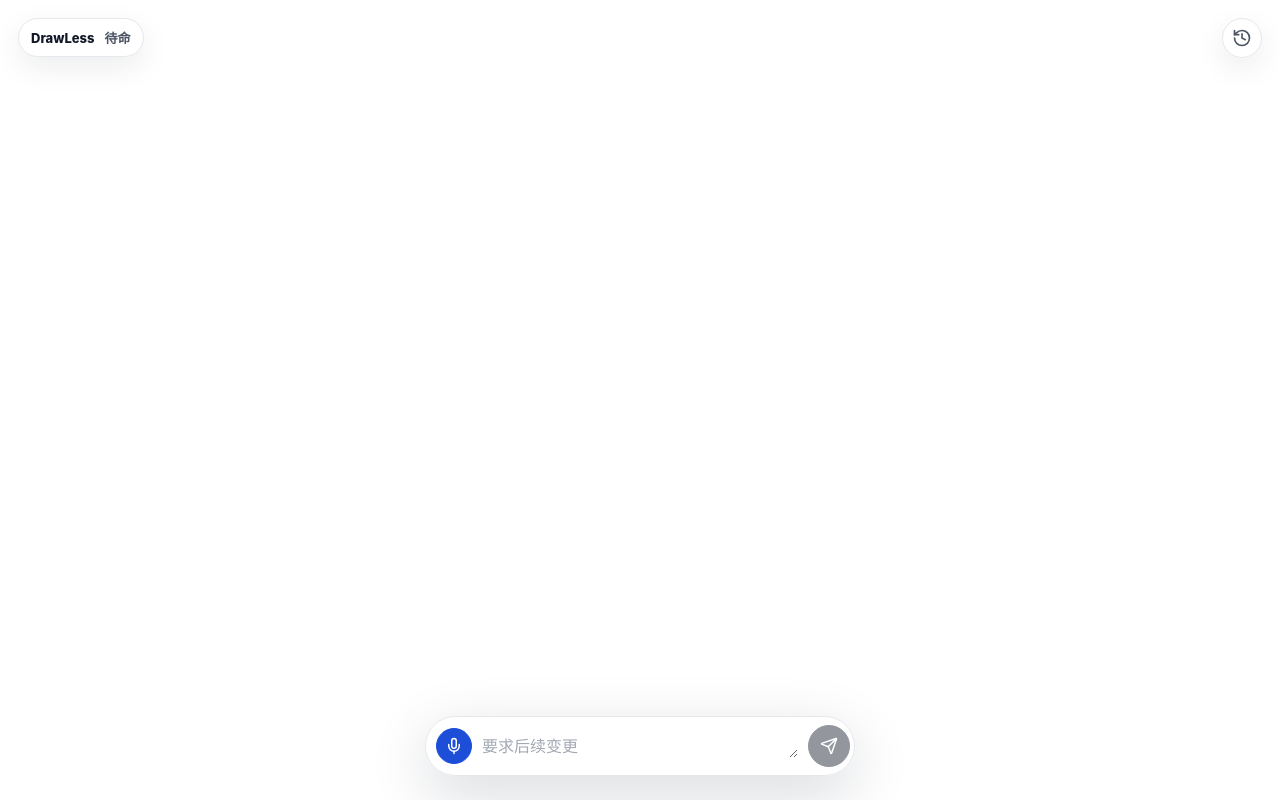
Test: App speech fallback › uses the visible conversation button to start Bolna MiMo first
Click the button named "话筒对话". click: (454, 746)
box: [436,728,472,764]
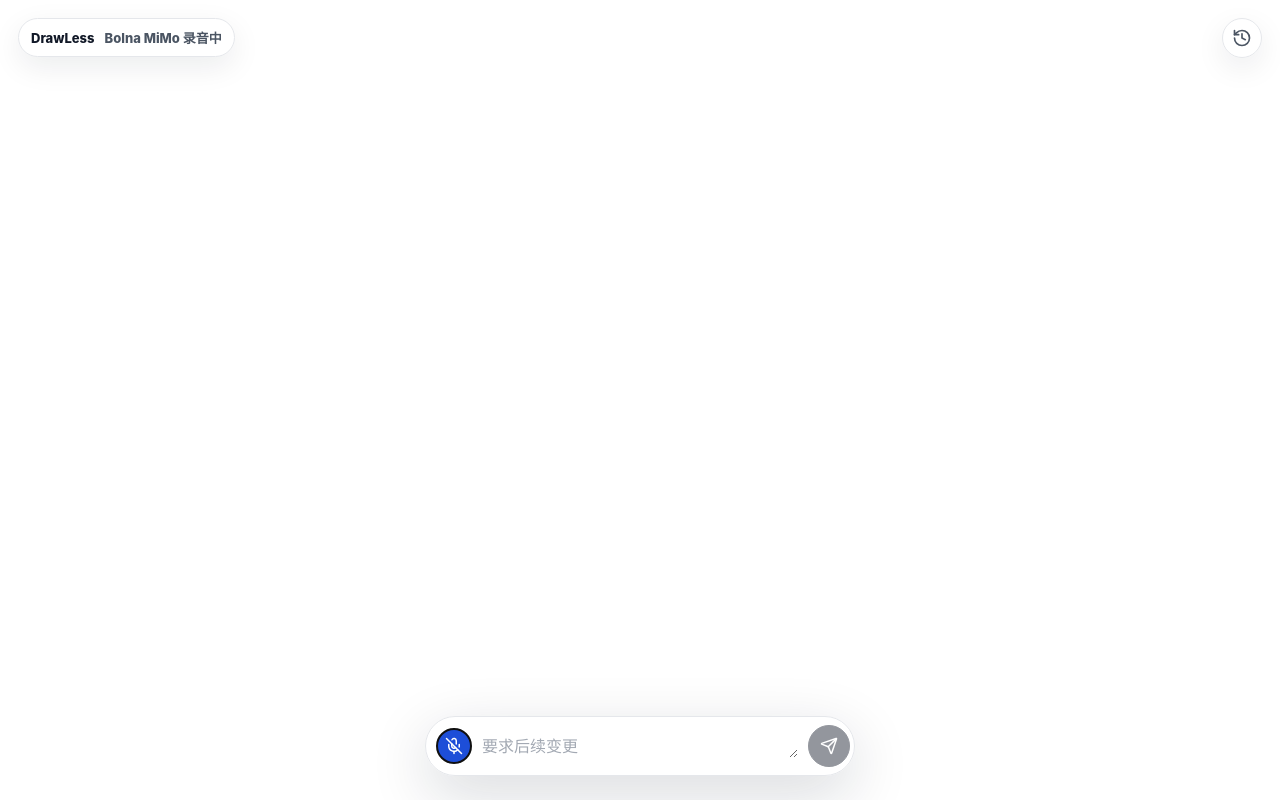
Now the text "Bolna MiMo 录音中" is shown, box [104,28,222,47]
